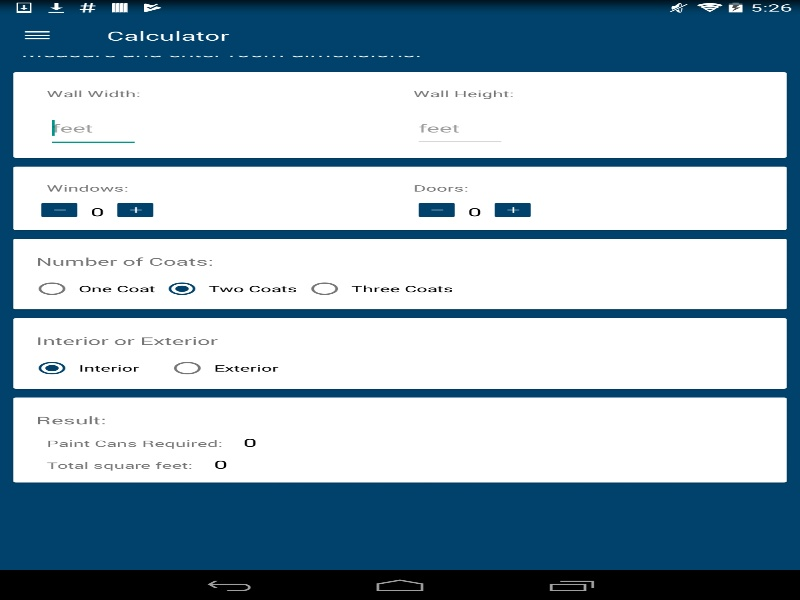Button: (0, 15, 74, 55), (489, 199, 536, 220), (36, 199, 82, 220), (112, 199, 158, 220), (413, 199, 459, 220)
Input: (46, 109, 140, 147), (413, 109, 506, 147)
